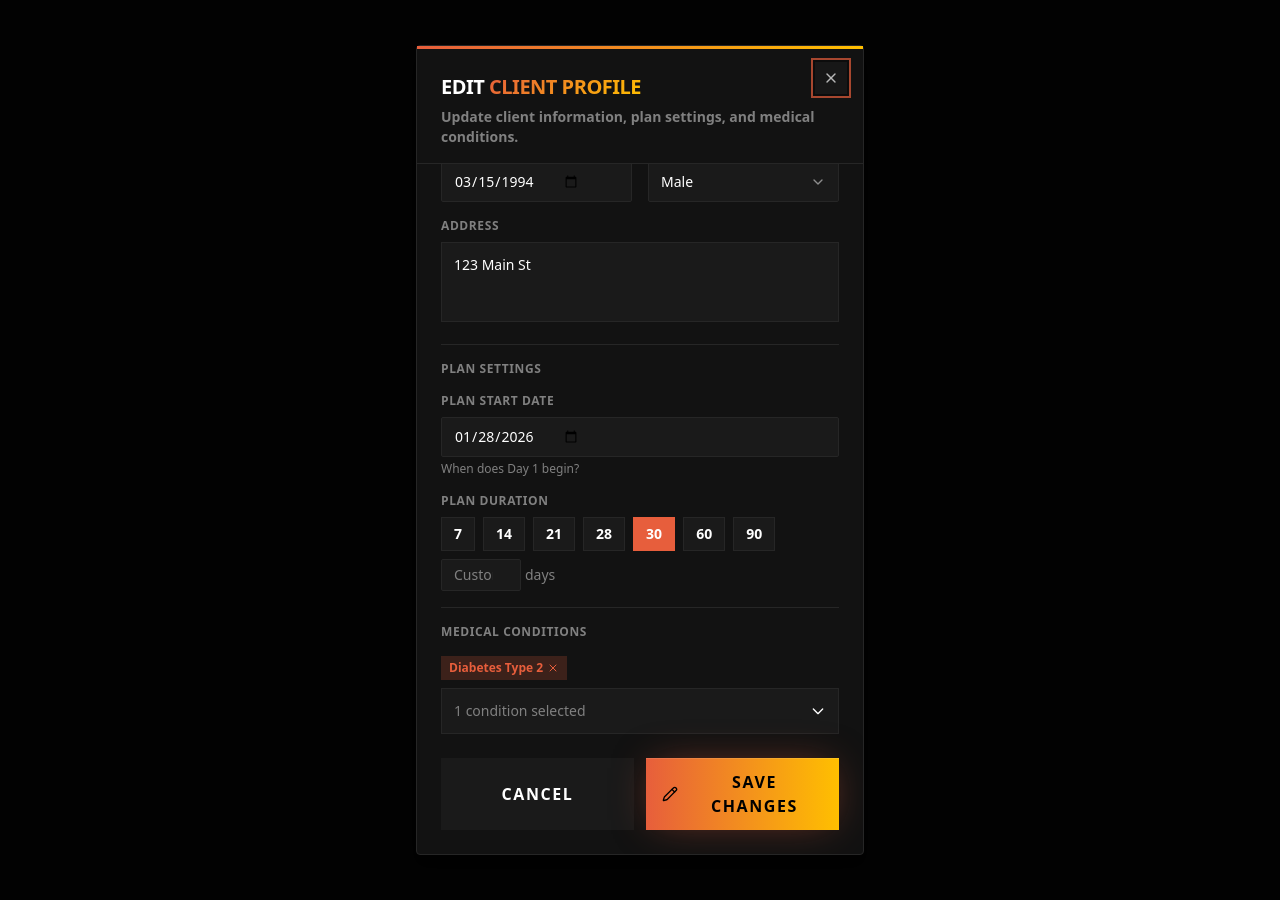
EditClientModal Component › Medical Conditions Management › can add new condition
(page scrolled)
// Open dropdown
Click the button "1 condition selected" at (520, 710), box [441, 688, 839, 734]
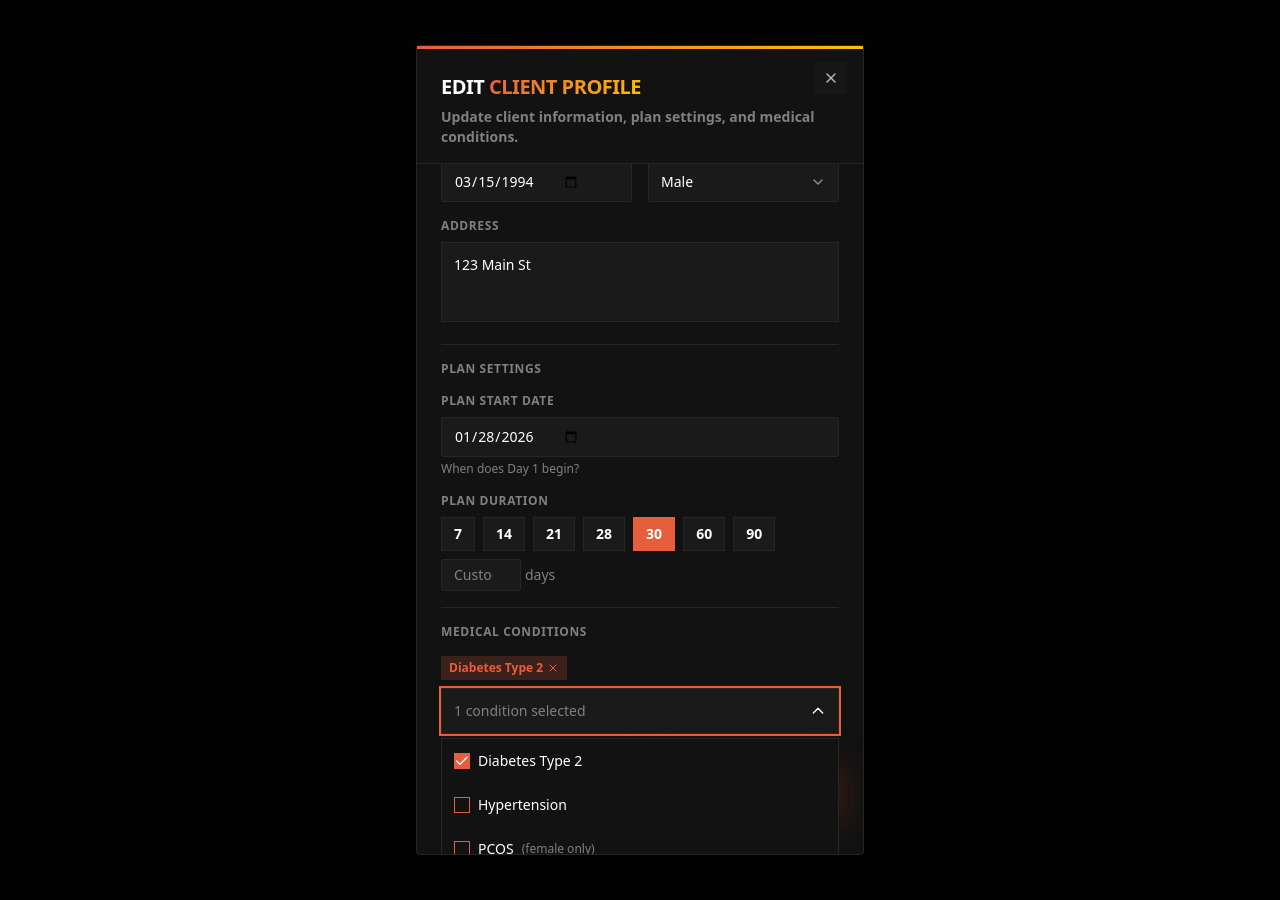
// Select Hypertension
Click the text "Hypertension" at (510, 804), box [454, 795, 567, 814]
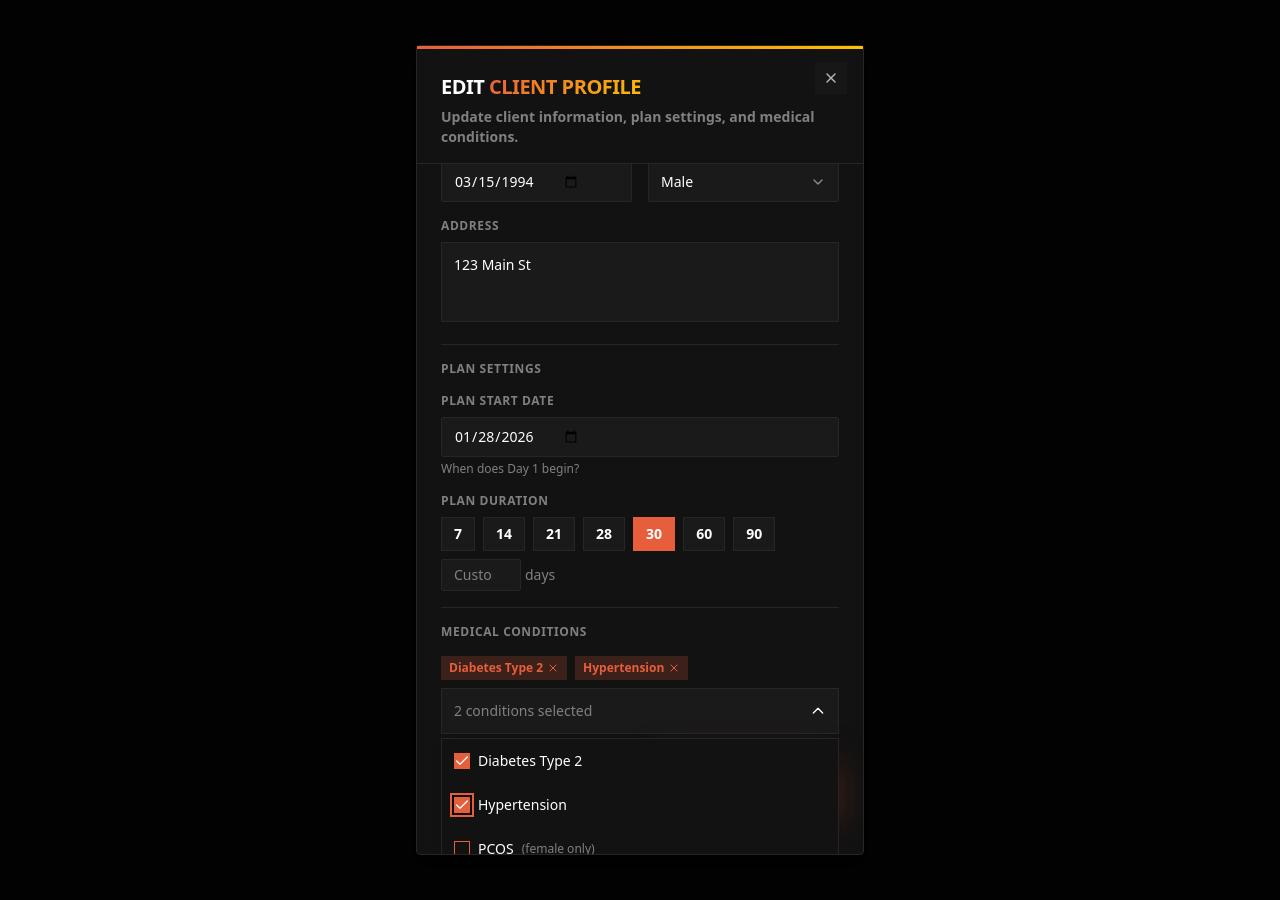
Expected: the text "2 conditions selected" is shown, [454, 701, 592, 721]
